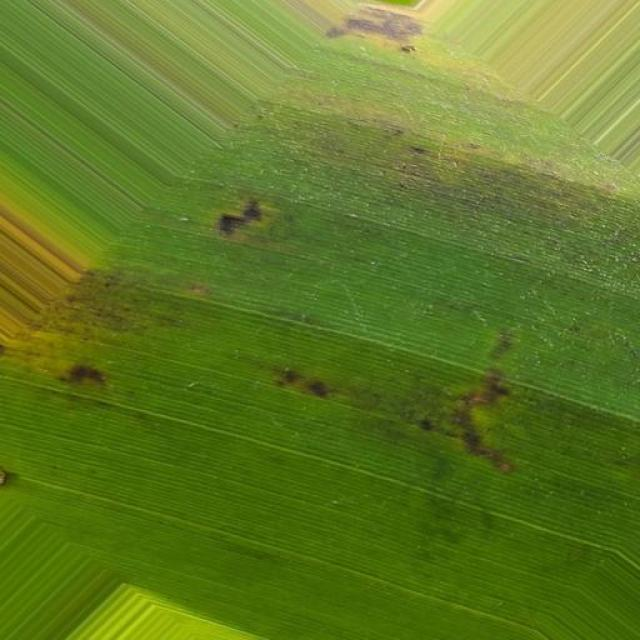Black_rot: (8, 4, 586, 552)
